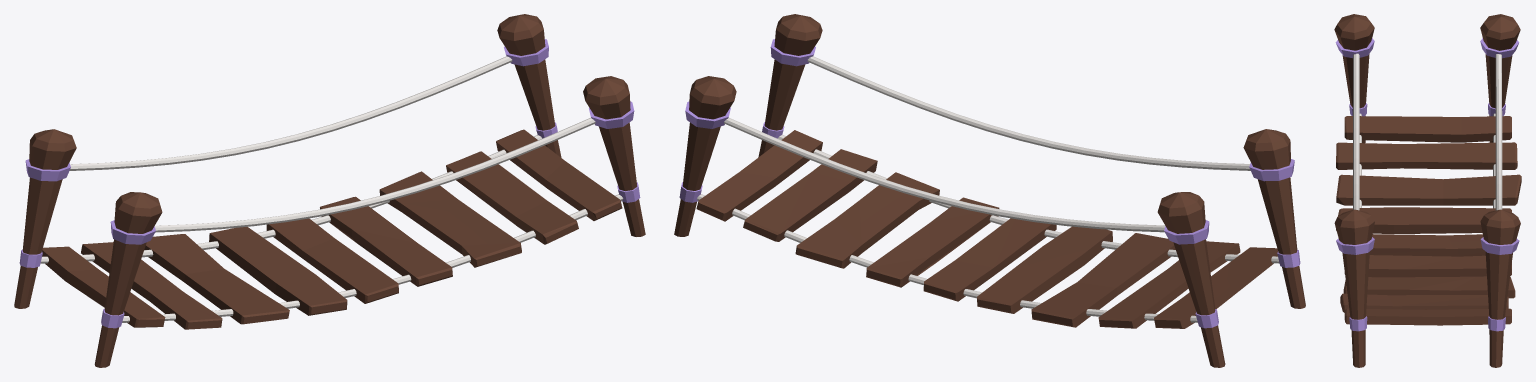
File: Bridge.fbx
3 views of the same model, side by side, from view 1: azimuth 30°, elevation 25°; view 2: azimuth 150°, elevation 25°; view 3: azimuth 270°, elevation 25° (orthographic). The views are drawn at different scales.
Parts seen in each view (by area): view 1: Bridge; view 2: Bridge; view 3: Bridge.
Boxes of the visible parts, bbox=[...] form: Bridge: bbox=[14, 14, 645, 367]; Bridge: bbox=[674, 14, 1305, 367]; Bridge: bbox=[1334, 14, 1521, 367].
Bounding box in the file's own units: 6.48 × 1.87 × 2.25.
